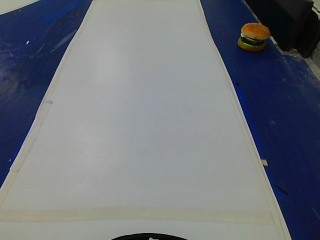burger: (235, 19, 273, 56)
